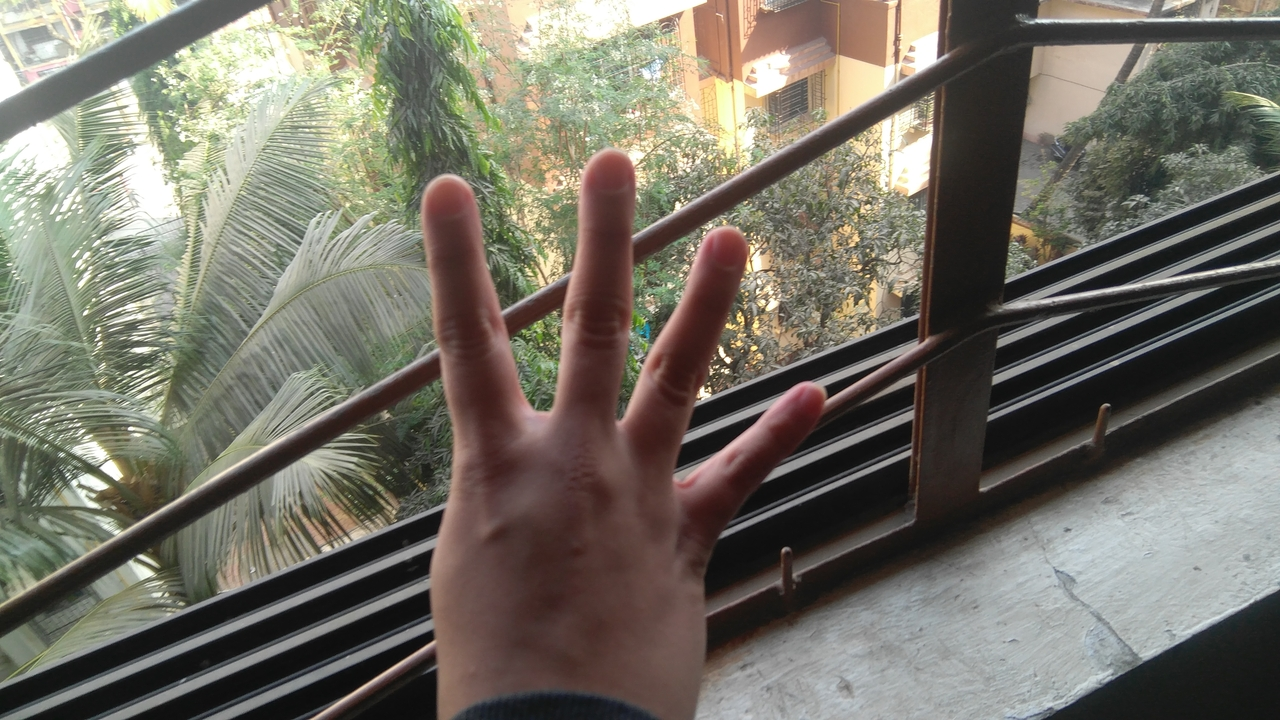fingertip: (414, 170, 476, 230), (692, 220, 754, 280), (578, 142, 636, 202), (776, 384, 826, 432)
